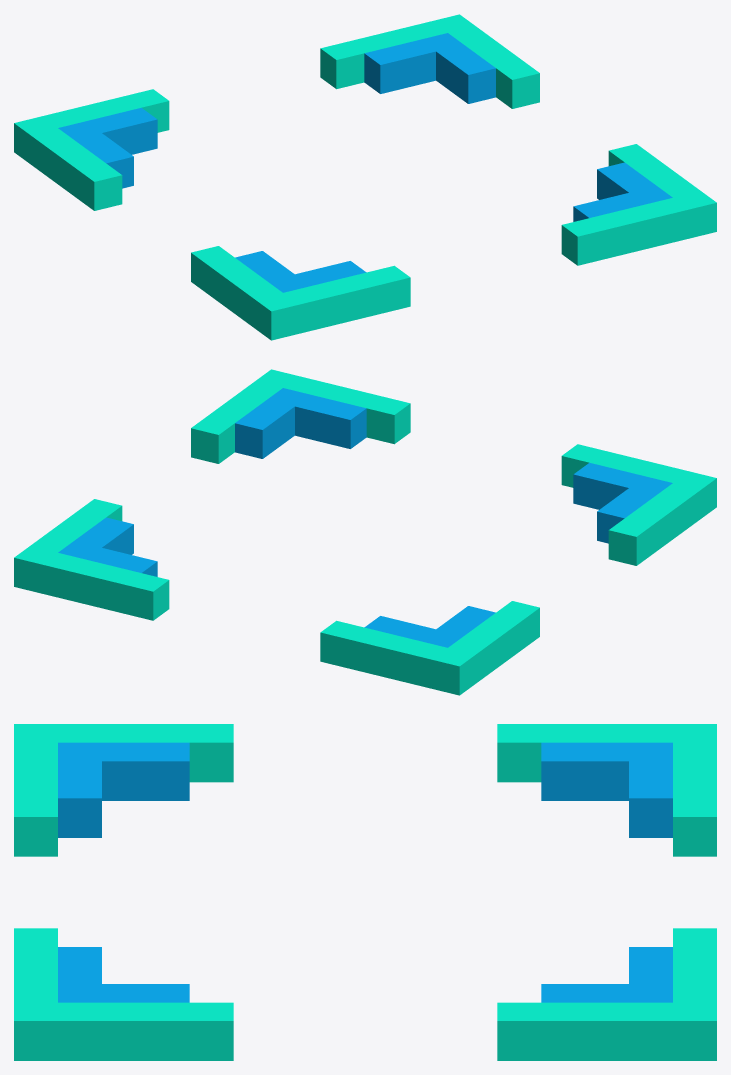
Rendered from StandardSelect.obj.
The picture shows the model from 3 angles, top to bottom: view 1: azimuth 30°, elevation 25°; view 2: azimuth 150°, elevation 25°; view 3: azimuth 270°, elevation 25°; orthographic projection. The views are drawn at different scales.
Size of the model in its own units: 1.6 by 0.1 by 1.6.
1 material, 1 textured.
